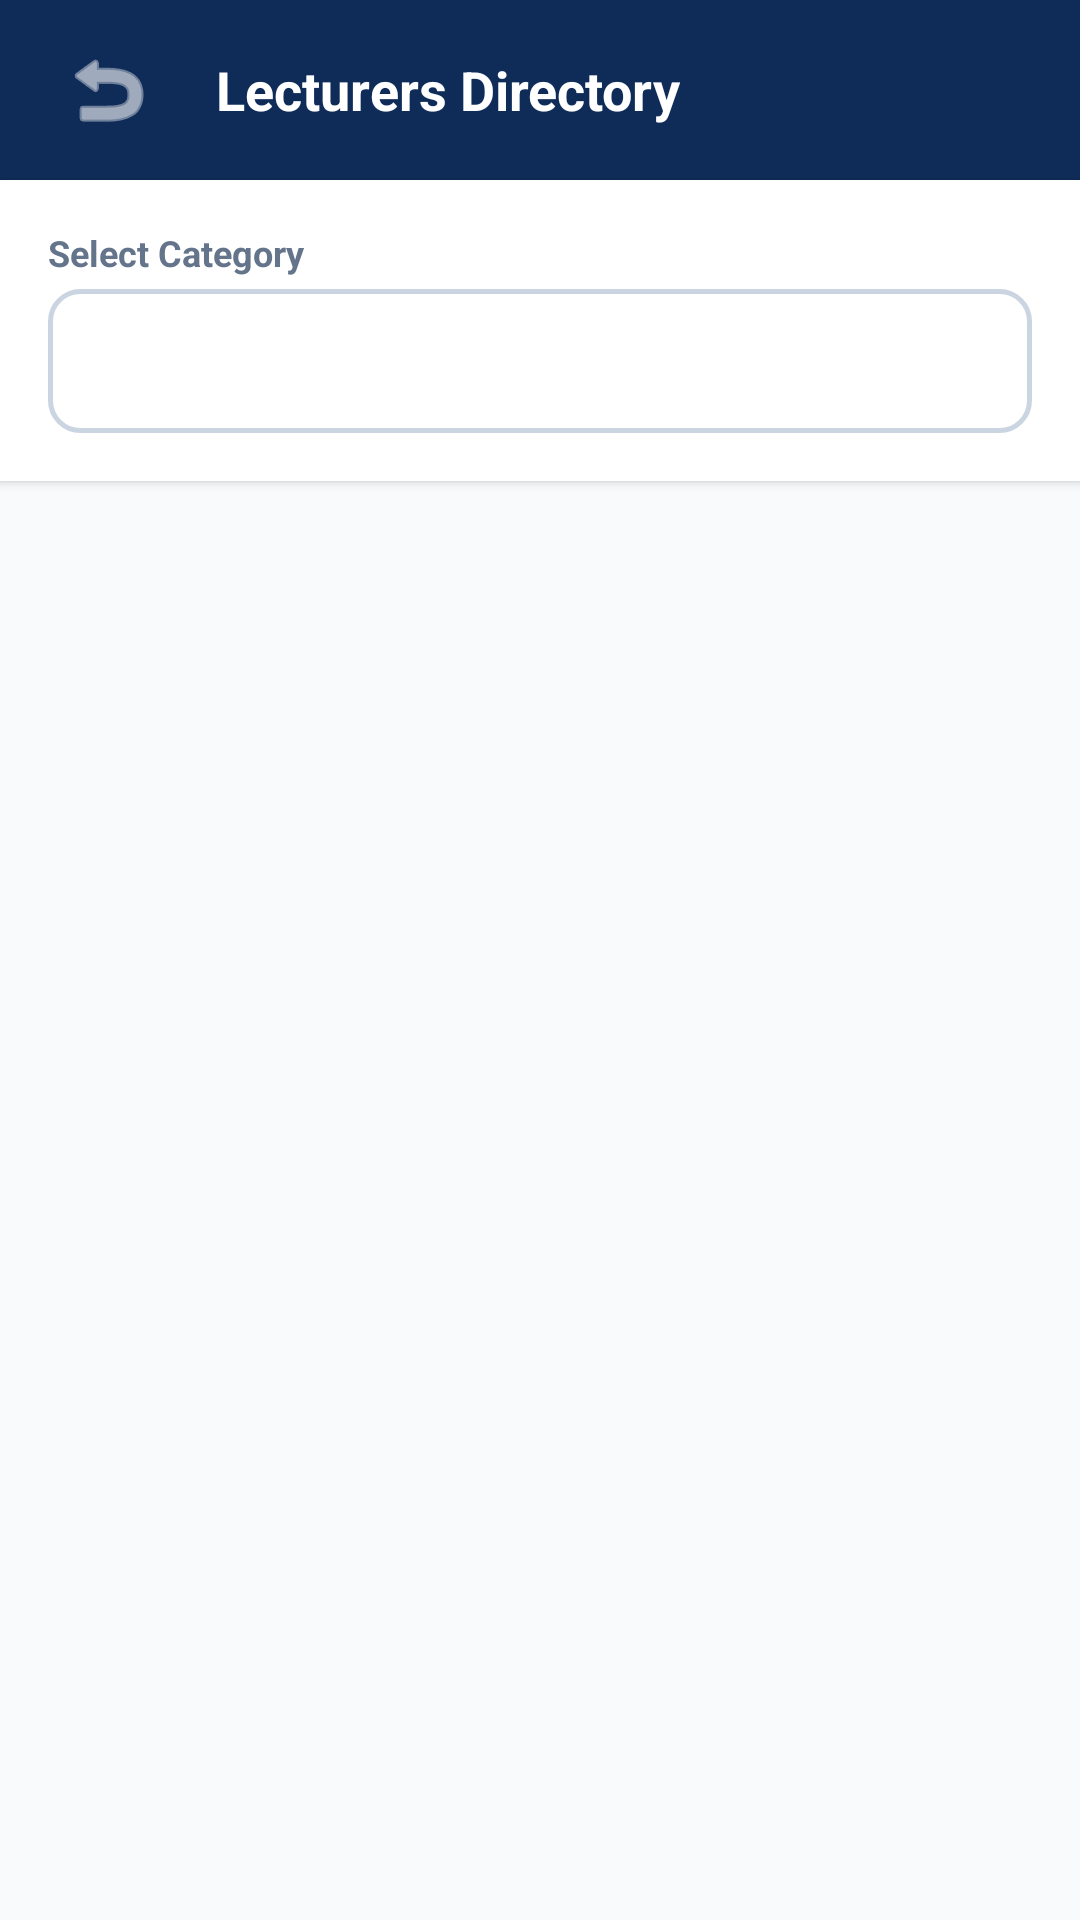

Where to tap for icons on this 1080 × 1920 app screen, as [x,y]:
Back: [109,90]
